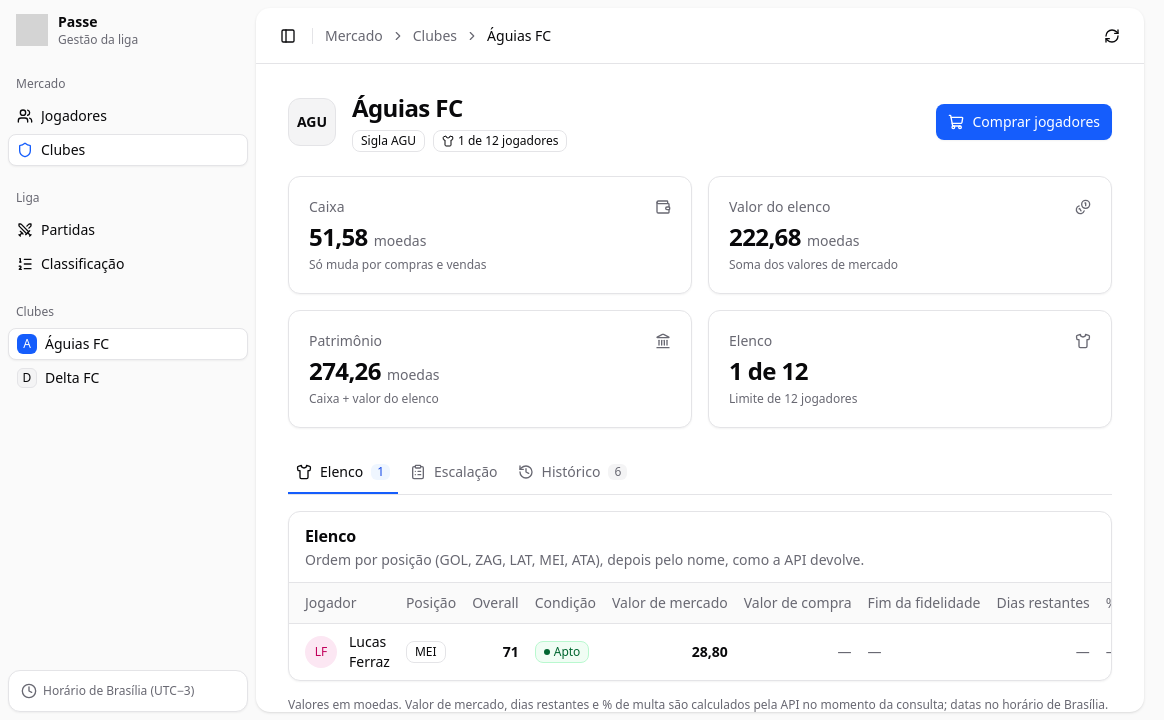
Test: abas da página do clube › abre no Elenco, com contagens e as três abas; a Escalação abre o próprio painel
Expected: the table named "Elenco" is shown, [289,583,1111,680]
What coordinates should you click on to do the following:
click the tab "Escalação"
I would click on:
 (454, 473)
Its box is [402,452,506,494].
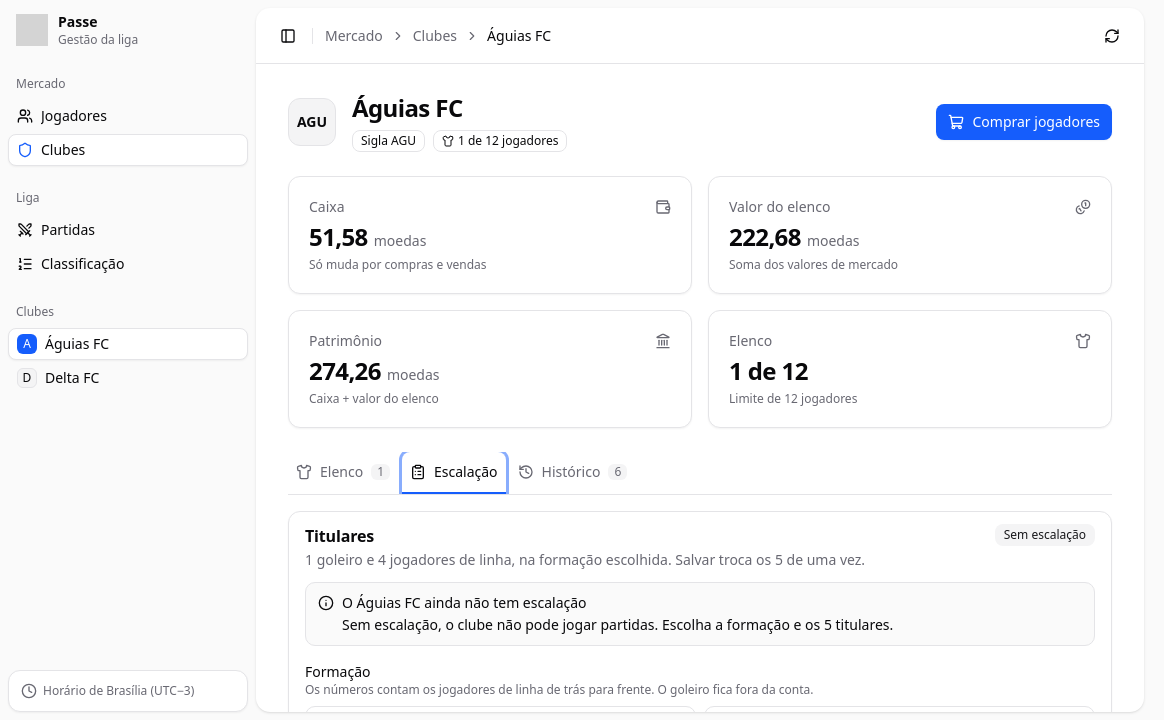
Now the text "O Águias FC ainda não tem escalação" is shown, box [342,593,587,612]
